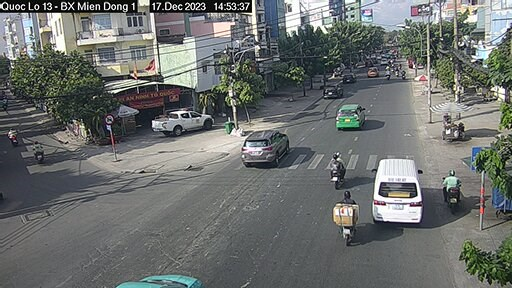car: (365, 152, 427, 230), (236, 120, 298, 166), (151, 104, 217, 137), (336, 100, 368, 139), (320, 78, 348, 98)
motorbike: (330, 185, 363, 240), (323, 149, 346, 193), (446, 164, 462, 208)
